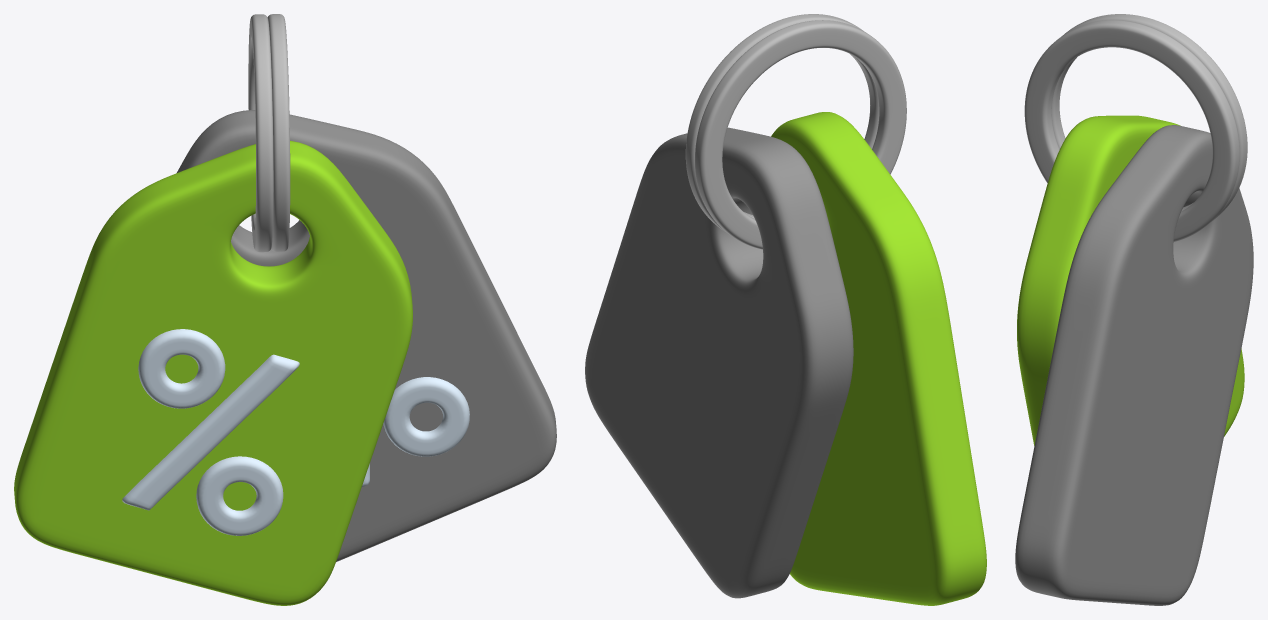
The model's file is deal-animated-3d-icon-955207074365.glb.
The picture shows the model from 3 angles, left to right: view 1: azimuth 30°, elevation 25°; view 2: azimuth 150°, elevation 25°; view 3: azimuth 270°, elevation 25°; orthographic projection. The views are drawn at different scales.
Parts seen in each view (by area): view 1: Tag, Tag.001, Percent Symbol, Ring, Percent Symbol.001; view 2: Tag.001, Tag, Ring; view 3: Tag.001, Tag, Ring.
Boxes of the visible parts, bbox=[...] form: Tag: bbox=[14, 140, 412, 605]; Tag.001: bbox=[177, 110, 556, 561]; Percent Symbol: bbox=[122, 329, 299, 535]; Ring: bbox=[248, 14, 290, 252]; Percent Symbol.001: bbox=[362, 377, 469, 486]; Tag.001: bbox=[585, 127, 853, 598]; Tag: bbox=[771, 112, 986, 605]; Ring: bbox=[685, 14, 906, 249]; Tag.001: bbox=[1015, 125, 1253, 605]; Tag: bbox=[1017, 115, 1244, 445]; Ring: bbox=[1024, 14, 1247, 241].
Bounding box in the file's own units: 2.27 × 2.62 × 1.01.
